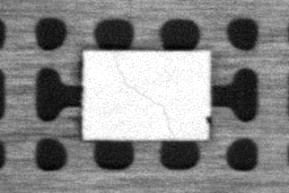DIE_CRACK: (114, 65, 173, 136)
